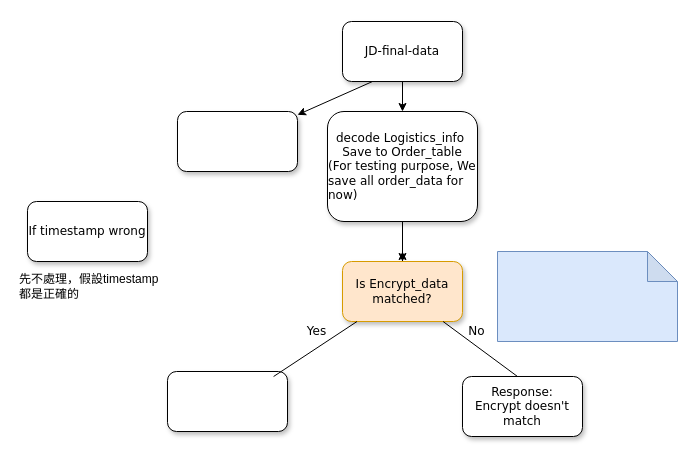
Image size: 695x461. Some labels were removed from this diagram. Here are the shapes that lost their labels. From the top down, the centre of each, then its label:
(x=238, y=142): Save Raw Data for developing
(x=587, y=296): 目前將驗證放在最後面，為了： 1 測試性能 2 了解京東到底會如何傳數據過來。 包含：格式、請求的數量..等等
(x=228, y=402): Response in required format
